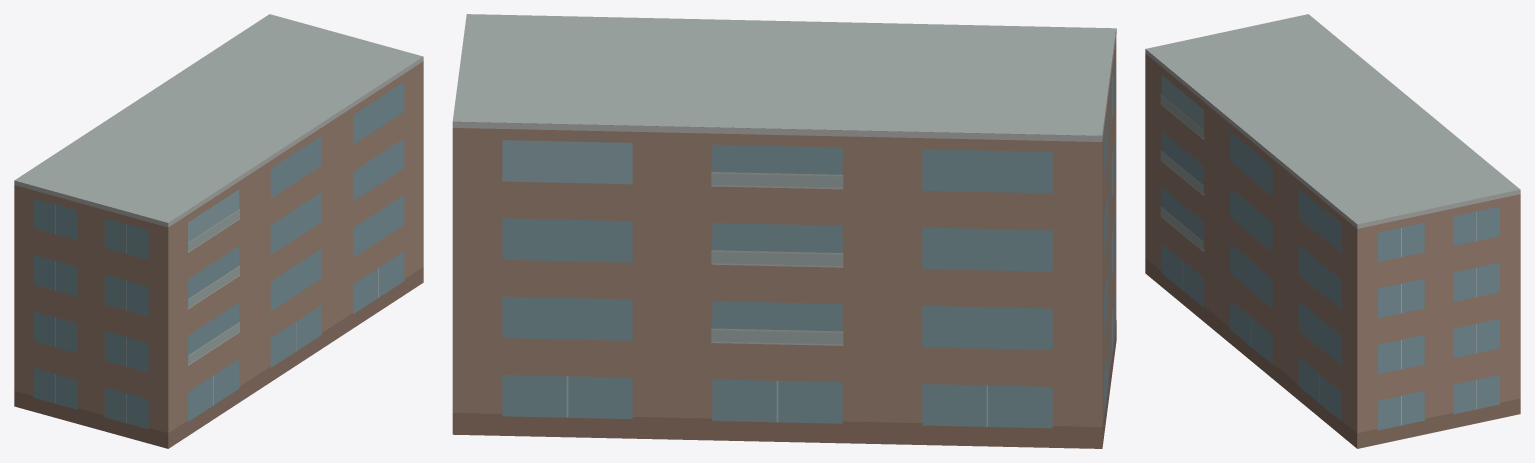
The model's file is survey-upis-32863845.glb.
3 views of the same model, side by side, from view 1: azimuth 30°, elevation 25°; view 2: azimuth 150°, elevation 25°; view 3: azimuth 270°, elevation 25° (orthographic). The views are drawn at different scales.
Parts seen in each view (by area): view 1: survey-upis-32863845.tmp; view 2: survey-upis-32863845.tmp; view 3: survey-upis-32863845.tmp.
Part boxes in pixels (box(x1,y1,x2,y2)): survey-upis-32863845.tmp: box(14, 14, 423, 448); survey-upis-32863845.tmp: box(452, 14, 1116, 448); survey-upis-32863845.tmp: box(1145, 14, 1520, 448).
Size of the model in its own units: 24.54 by 12.2 by 18.49.
